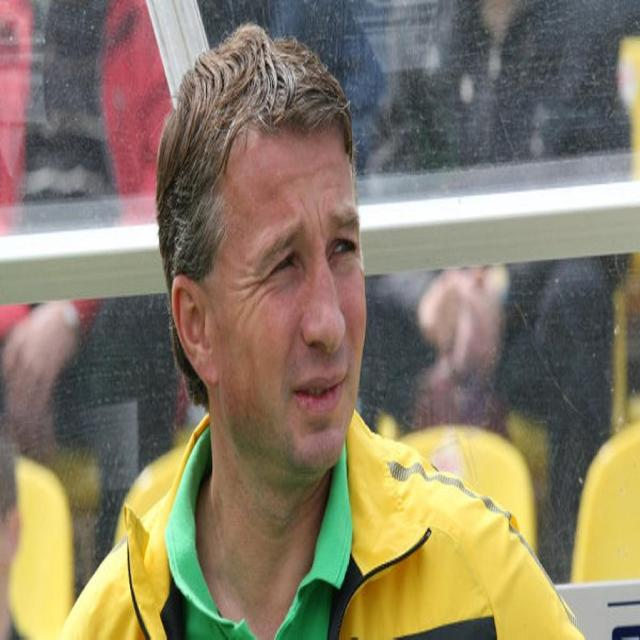Face: (199, 103, 377, 478)
